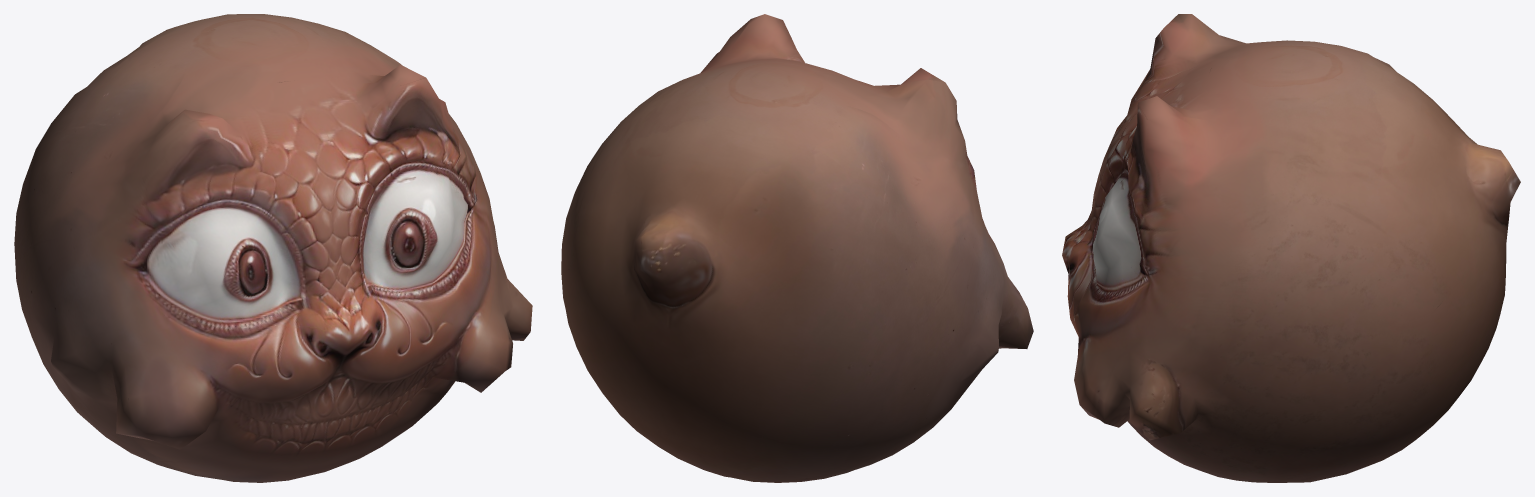
The model's file is DragonTruffleMesh.fbx.
3 renders of one model, left to right at view 1: azimuth 30°, elevation 25°; view 2: azimuth 150°, elevation 25°; view 3: azimuth 270°, elevation 25°, orthographic. The views are drawn at different scales.
Parts seen in each view (by area): view 1: dragonTruffle; view 2: dragonTruffle; view 3: dragonTruffle.
Part boxes in pixels (left/top/right/bottom): dragonTruffle: left=14, top=14, right=532, bottom=482; dragonTruffle: left=561, top=14, right=1033, bottom=482; dragonTruffle: left=1062, top=14, right=1520, bottom=482.
Size of the model in its own units: 119 by 108 by 113.
